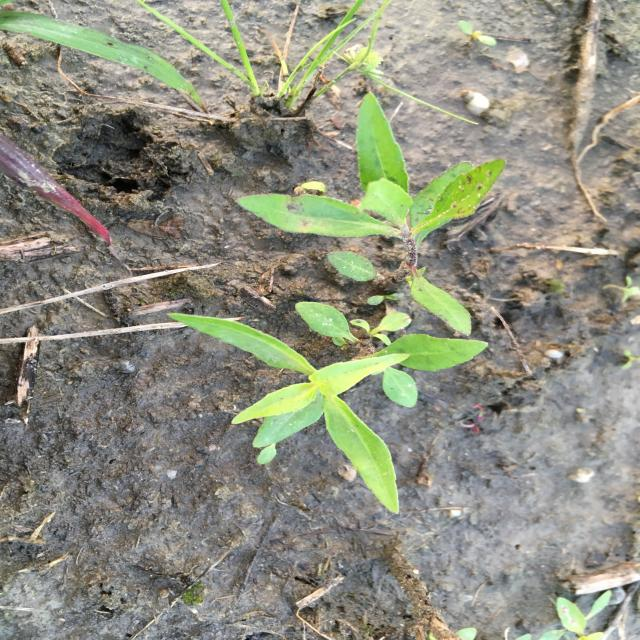Eclipta: (164, 299, 491, 516), (232, 90, 509, 339)
